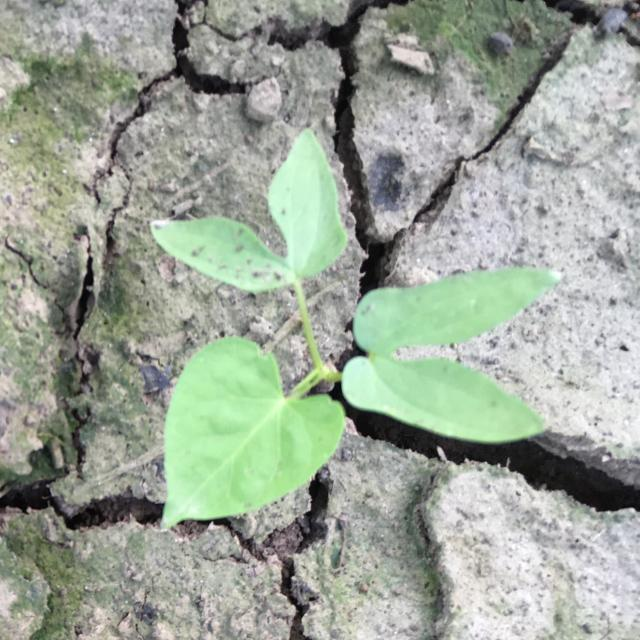MorningGlory: (150, 128, 563, 532)
